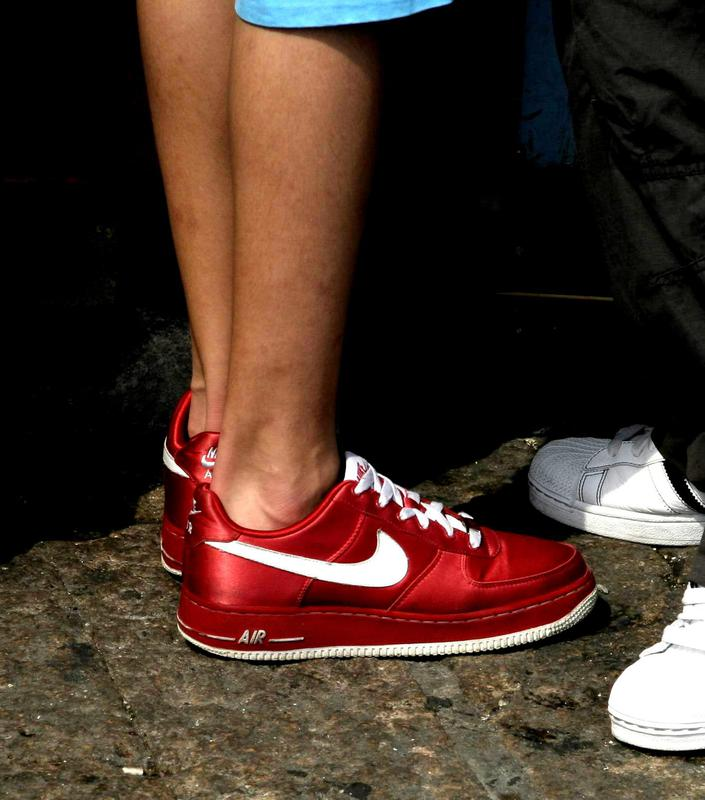nike: (213, 535, 419, 595)
